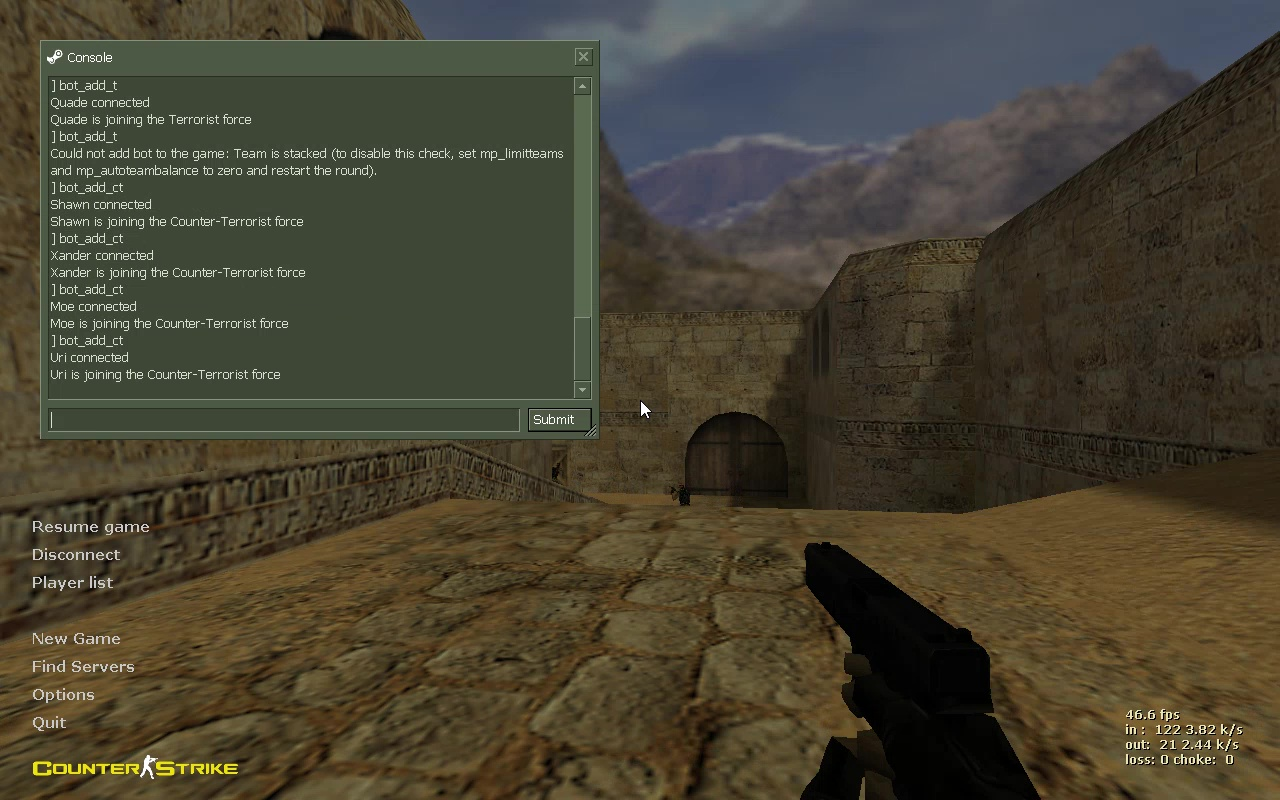terr1: (667, 482, 692, 507)
